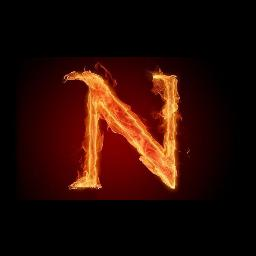n: (73, 68, 179, 194)
